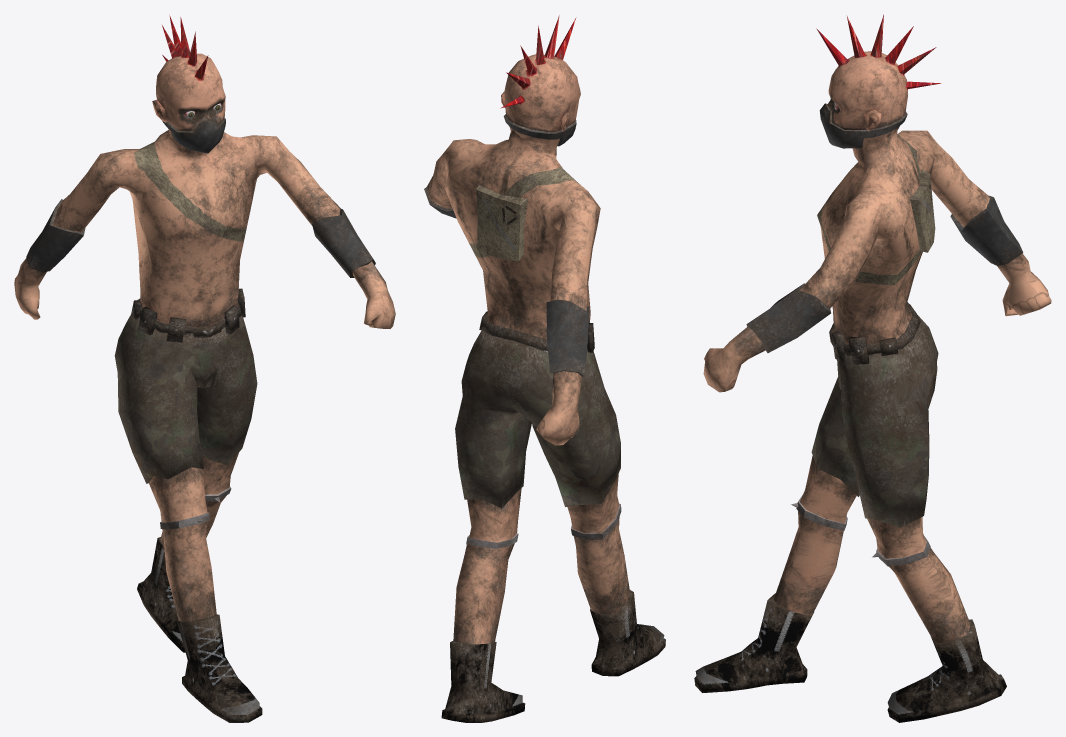
File: Anim_andar_npc2.0025.obj
3 renders of one model, left to right at view 1: azimuth 30°, elevation 25°; view 2: azimuth 150°, elevation 25°; view 3: azimuth 270°, elevation 25°, orthographic. The views are drawn at different scales.
Visible parts, largest first — view 1: Anim_andar_npc2; view 2: Anim_andar_npc2; view 3: Anim_andar_npc2.
Boxes of the visible parts, bbox=[...] form: Anim_andar_npc2: bbox=[14, 14, 395, 722]; Anim_andar_npc2: bbox=[424, 15, 665, 722]; Anim_andar_npc2: bbox=[694, 14, 1051, 722].
Size of the model in its own units: 3.95 by 10.2 by 4.79.
